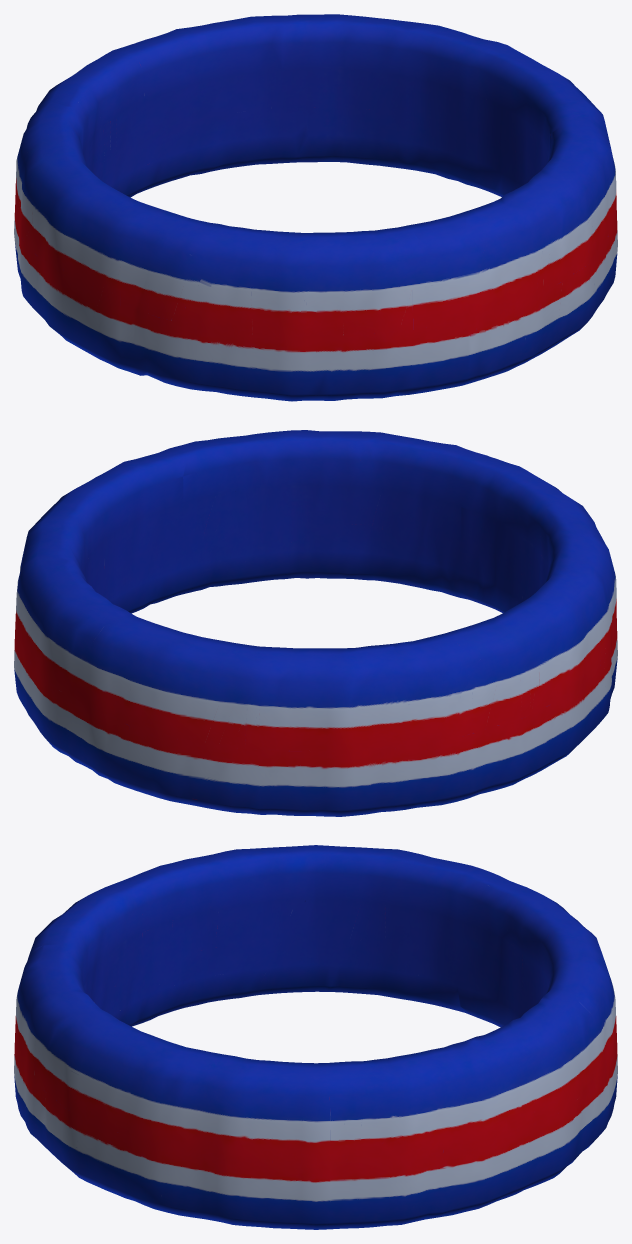
File: sports_headband.glb
The picture shows the model from 3 angles, top to bottom: view 1: azimuth 30°, elevation 25°; view 2: azimuth 150°, elevation 25°; view 3: azimuth 270°, elevation 25°; orthographic projection.
Parts seen in each view (by area): view 1: geometry_0; view 2: geometry_0; view 3: geometry_0.
Part boxes in pixels (left/top/right/bottom): geometry_0: left=14, top=14, right=617, bottom=401; geometry_0: left=14, top=430, right=617, bottom=816; geometry_0: left=14, top=845, right=617, bottom=1229.
Bounding box in the file's own units: 0.9531 × 0.2617 × 0.9556.
Materials: 1 (1 with a texture image).
